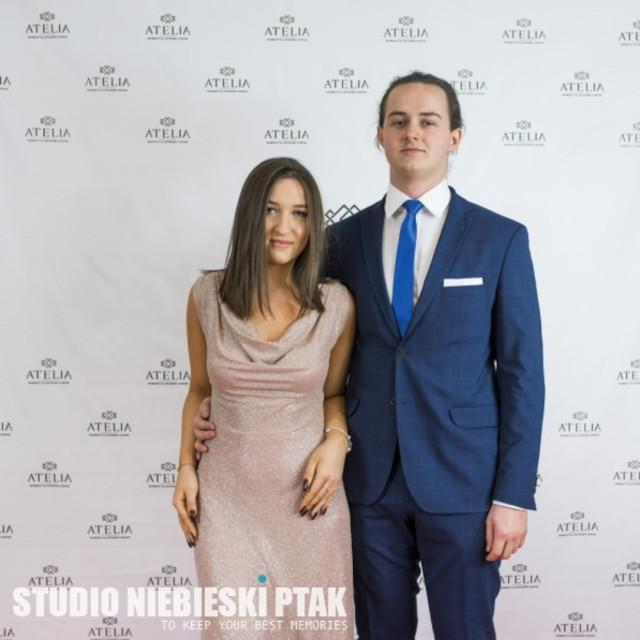kobieta: (181, 151, 356, 640)
mezczyzna: (343, 73, 546, 640)
